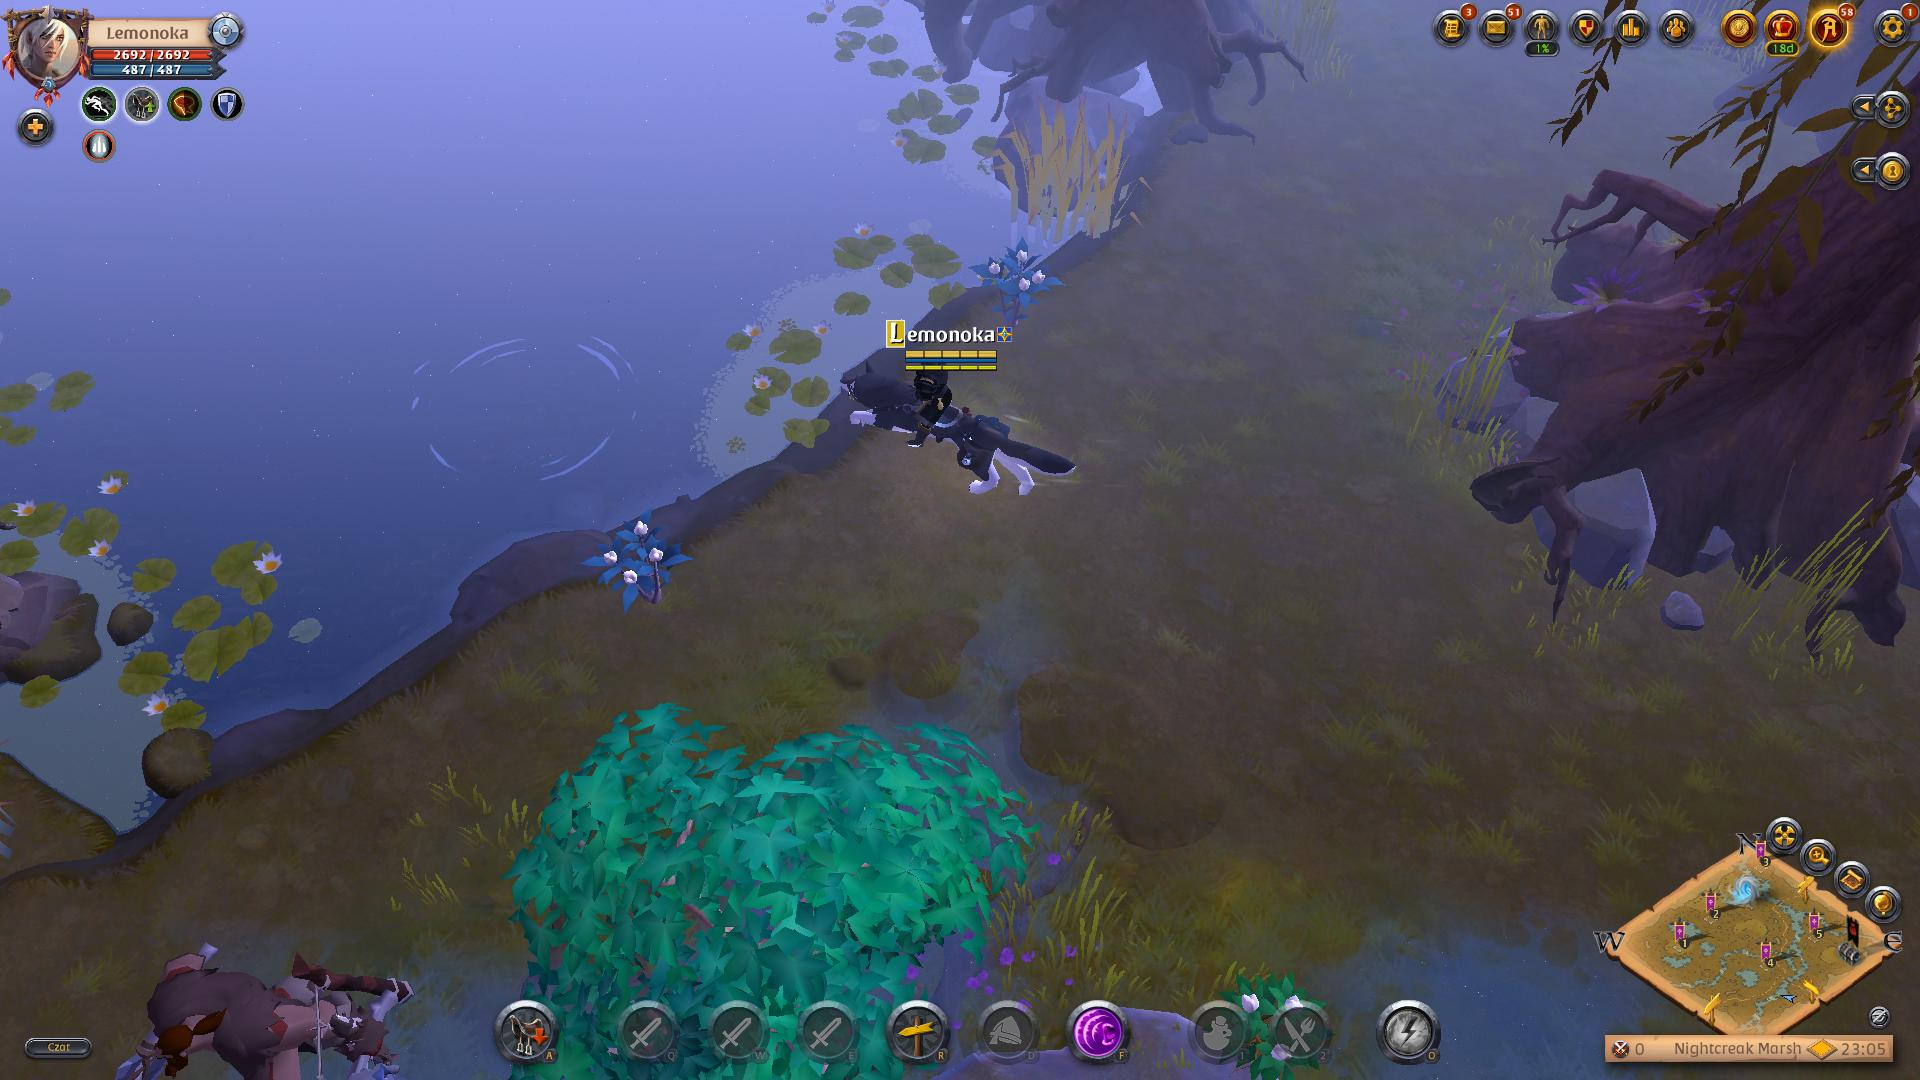fiber tier 4: (589, 506, 695, 617), (977, 236, 1068, 327)
fish: (402, 315, 645, 497)
